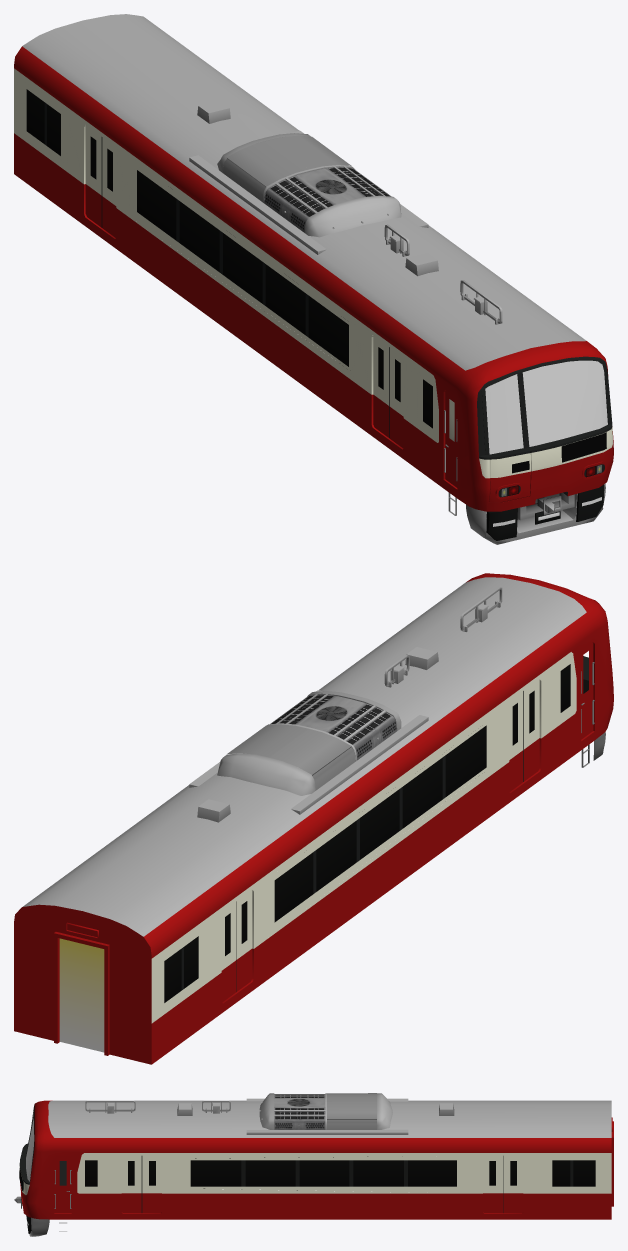
The picture shows the model from 3 angles, top to bottom: view 1: azimuth 30°, elevation 25°; view 2: azimuth 150°, elevation 25°; view 3: azimuth 270°, elevation 25°; orthographic projection. The views are drawn at different scales.
Parts seen in each view (by area): view 1: obj10; view 2: obj10; view 3: obj10.
Boxes of the visible parts, box(x1,y1,x2,y2) form: obj10: box(14, 14, 613, 544); obj10: box(14, 573, 613, 1064); obj10: box(14, 1093, 613, 1236).
Size of the model in its own units: 6.5 by 8.69 by 39.05.
22 materials, 21 textured.
